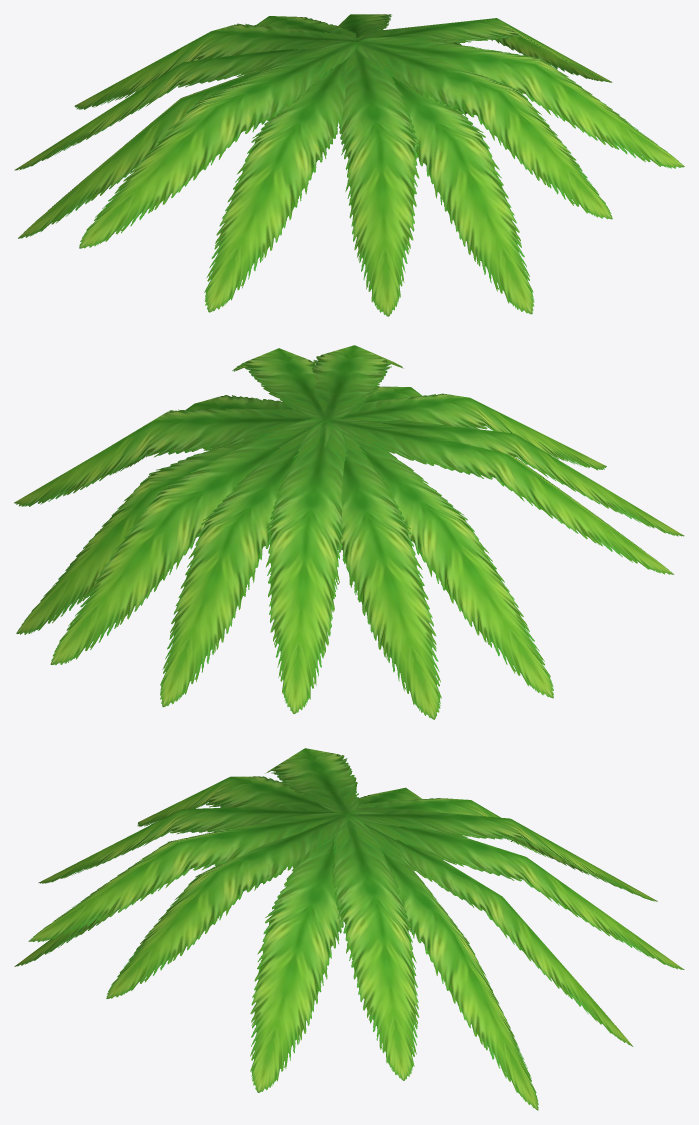
The model's file is PalmCrownMeshShape.dae.
3 views of the same model, one above another, from view 1: azimuth 30°, elevation 25°; view 2: azimuth 150°, elevation 25°; view 3: azimuth 270°, elevation 25° (orthographic).
Visible parts, largest first — view 1: PalmCrownMesh; view 2: PalmCrownMesh; view 3: PalmCrownMesh.
Part boxes in pixels (x1,y1,x2,y2): PalmCrownMesh: [14, 14, 684, 316]; PalmCrownMesh: [14, 345, 684, 719]; PalmCrownMesh: [14, 748, 684, 1110].
Bounding box in the file's own units: 17.89 × 5.6 × 17.61.
